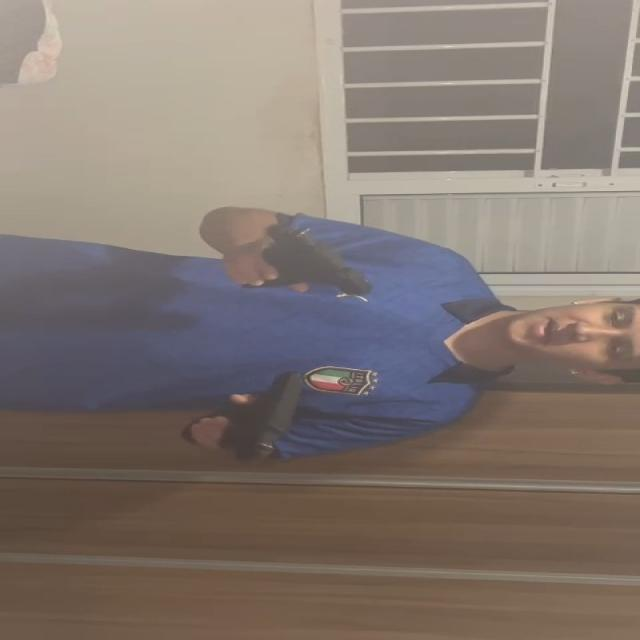gun: (228, 366, 314, 458), (265, 222, 368, 296)
